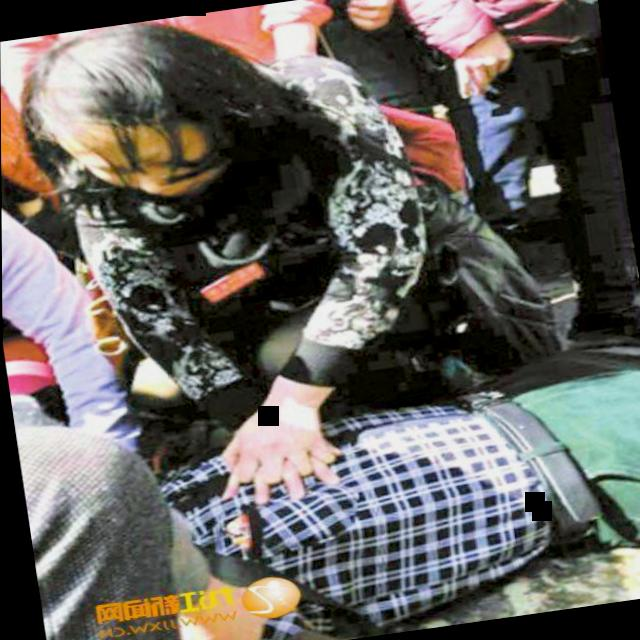Fall-Detected: (77, 289, 640, 640)
